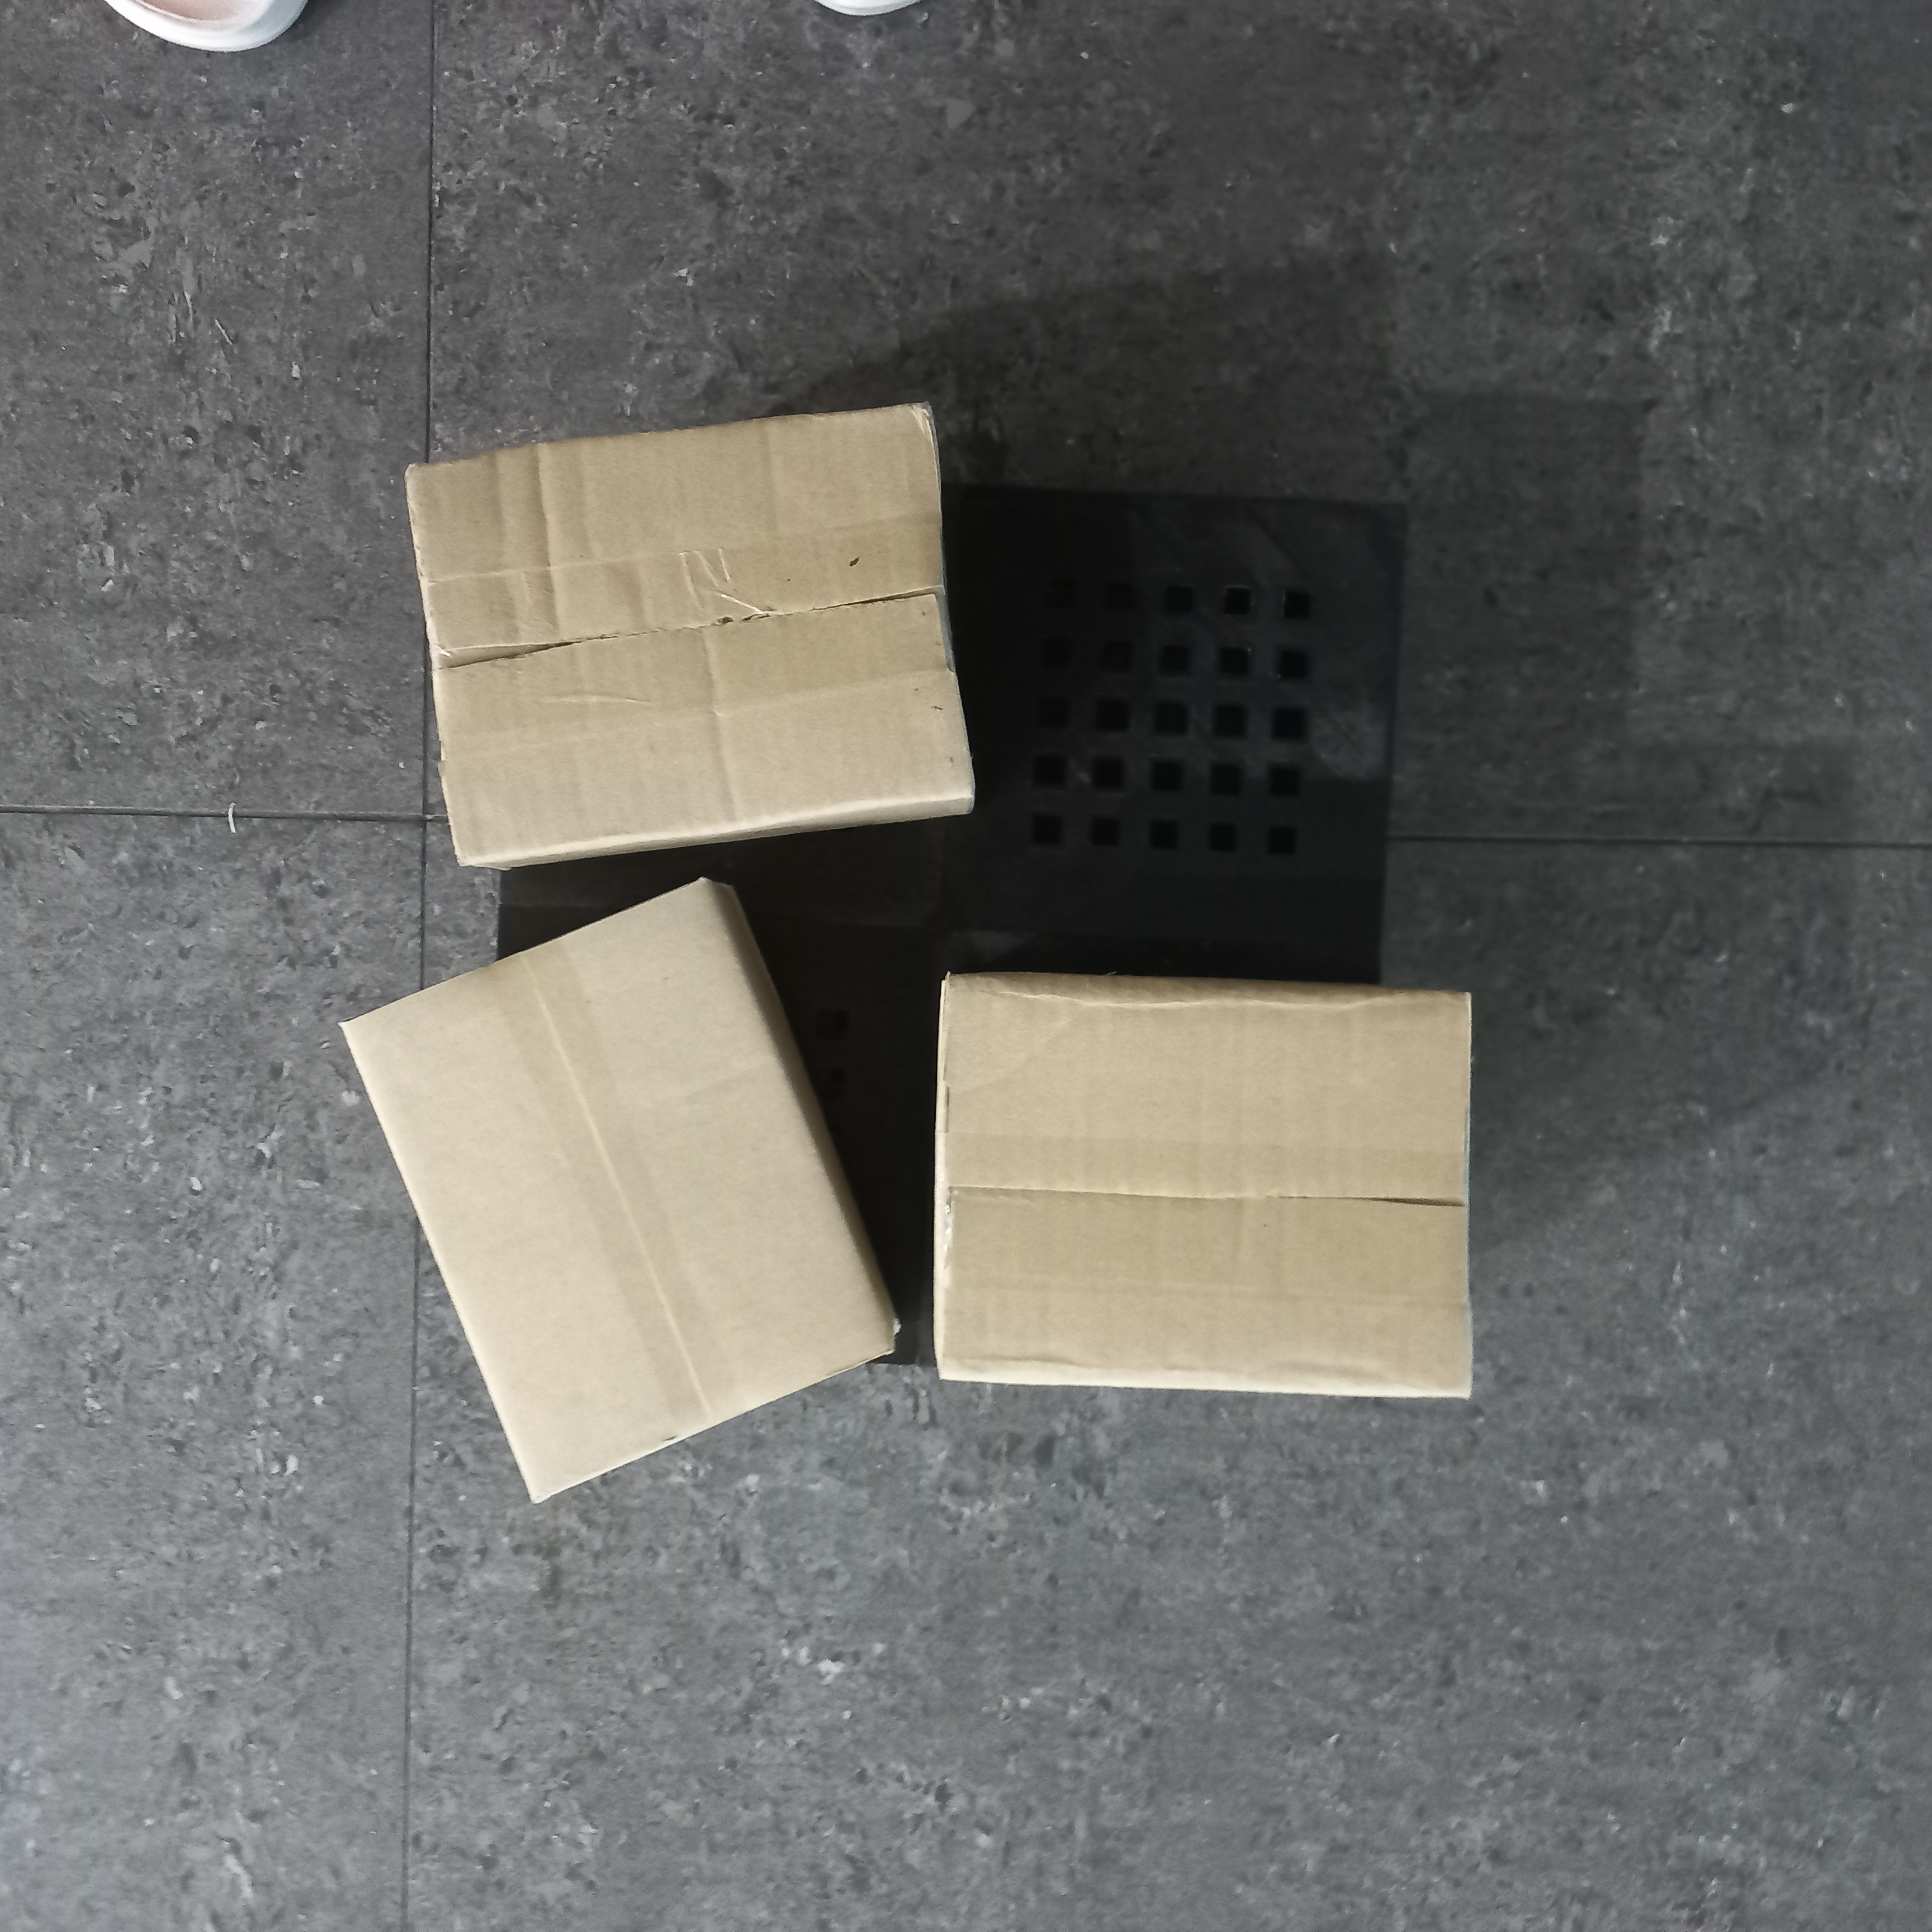box: (333, 867, 904, 1516), (393, 387, 982, 872), (927, 964, 1483, 1410)
